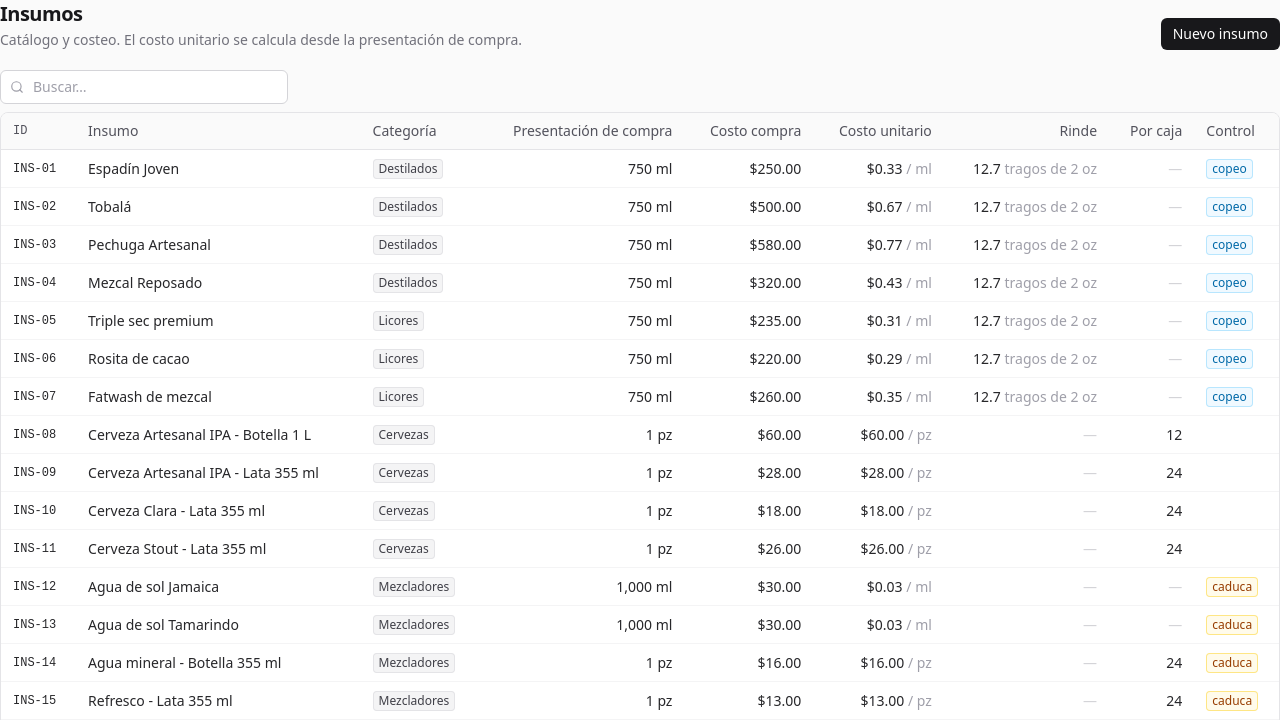
Scenario: <InsumosPage> › abre el formulario al tocar una fila
The image size is (1280, 720).
Click the cell "Espadín Joven" at (134, 168), box [76,150,360,188]
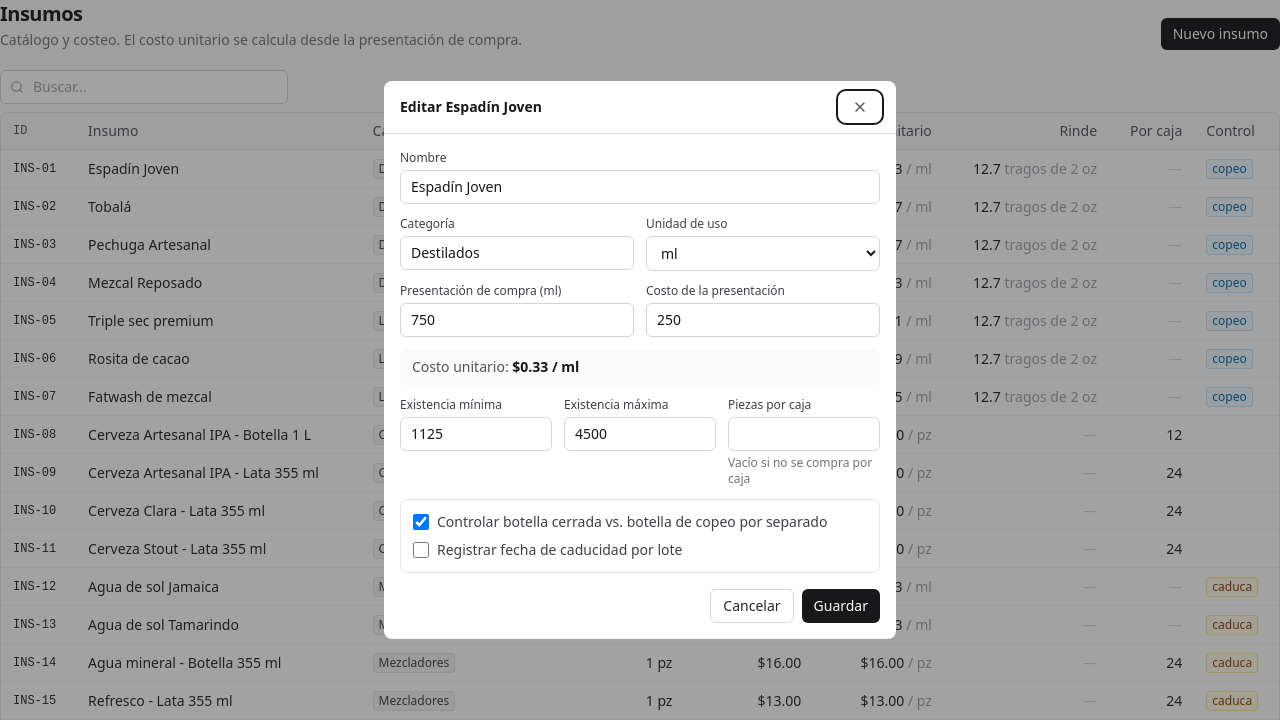
Result: the dialog "Editar Espadín Joven" is shown at [384,81,896,639]
